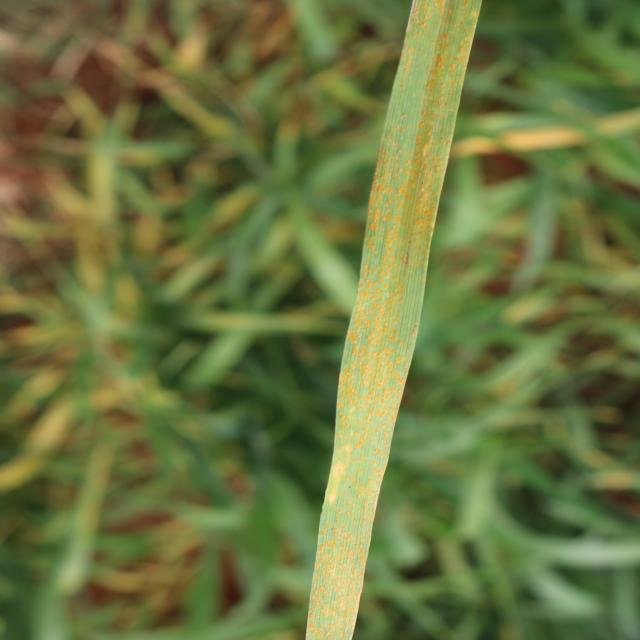Stripe Rust: (306, 48, 470, 639)
